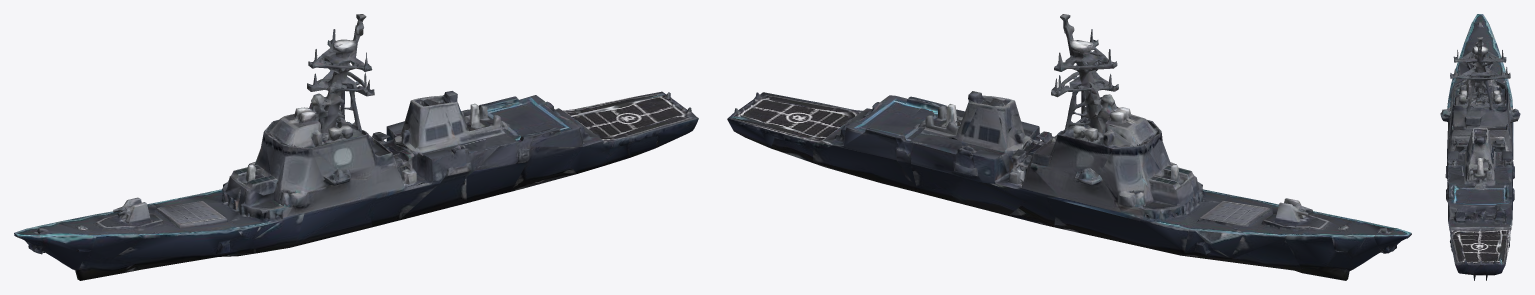
Rendered from arleigh-burke-destroyer-meshy-textured-detail-v3.glb.
3 renders of one model, left to right at view 1: azimuth 30°, elevation 25°; view 2: azimuth 150°, elevation 25°; view 3: azimuth 270°, elevation 25°, orthographic. The views are drawn at different scales.
Bounding box in the file's own units: 1.89 × 0.54 × 0.282.
1 material, 1 textured.
